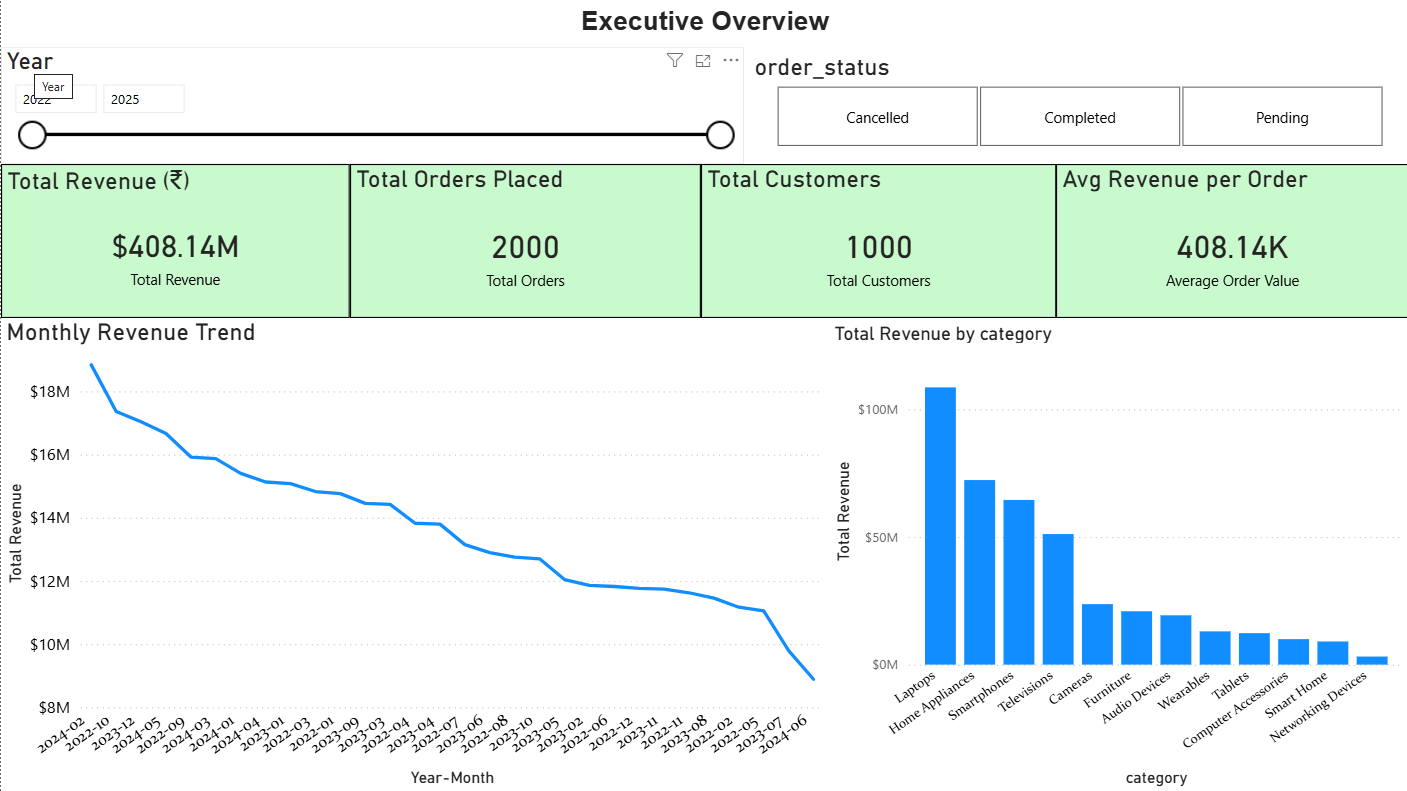

The page's visual inventory and layout, read from the dashboard file:
{"tool":"powerbi","page":{"name":"Executive Overview","canvas":[1280,720],"ordinal":0},"visuals":[{"type":"card","title":"Total Revenue (₹)","fields":{"Values":["Fact_Order_items.Total Revenue"]},"box":[0,149,317,140],"z":0},{"type":"card","title":"Total Orders Placed","fields":{"Values":["Fact_Order_items.Total Orders"]},"box":[317,149,319,140],"z":1000},{"type":"card","title":"Total Customers","fields":{"Values":["Fact_Order_items.Total Customers"]},"box":[636,149,323,140],"z":2000},{"type":"card","title":"Avg Revenue per Order","fields":{"Values":["Fact_Order_items.Average Order Value"]},"box":[959,149,321,140],"z":3000},{"type":"lineChart","title":"Monthly Revenue Trend","fields":{"Category":["Dim_Date.Year-Month"],"Y":["Fact_Order_items.Total Revenue"]},"box":[0,289.1,752.7,430.9],"z":4000},{"type":"clusteredColumnChart","fields":{"Category":["Dim_Products.category "],"Y":["Fact_Order_items.Total Revenue"]},"box":[752.5,292.5,527.5,427.5],"z":5000},{"type":"slicer","title":"Year","fields":{"Values":["Dim_Date.Year"]},"box":[0,43,675,106],"z":6000},{"type":"slicer","title":"order_status","fields":{"Values":["Dim_Orders.order_status"]},"box":[680,42.9,600,97.1],"z":7000},{"type":"textbox","box":[0,0,1280,42.7],"z":8000}]}

Visuals, with their boxes in screenshot pixels (x1, y1, x2, y2), scaled from the page's 1280x720 canvas onto the 1407x791 screenshot:
"Total Revenue (₹)" card: 0 164 348 317
"Total Orders Placed" card: 348 164 699 317
"Total Customers" card: 699 164 1054 317
"Avg Revenue per Order" card: 1054 164 1406 317
"Monthly Revenue Trend" lineChart: 0 318 827 790
clusteredColumnChart - Dim_Products.category  x Fact_Order_items.Total Revenue: 827 321 1406 790
"Year" slicer: 0 47 742 164
"order_status" slicer: 747 47 1406 154
textbox: 0 0 1406 47
